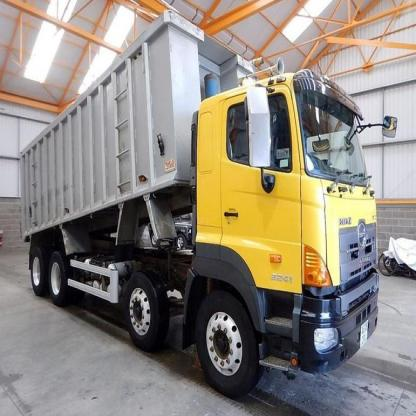dump_truck: (14, 15, 387, 407)
